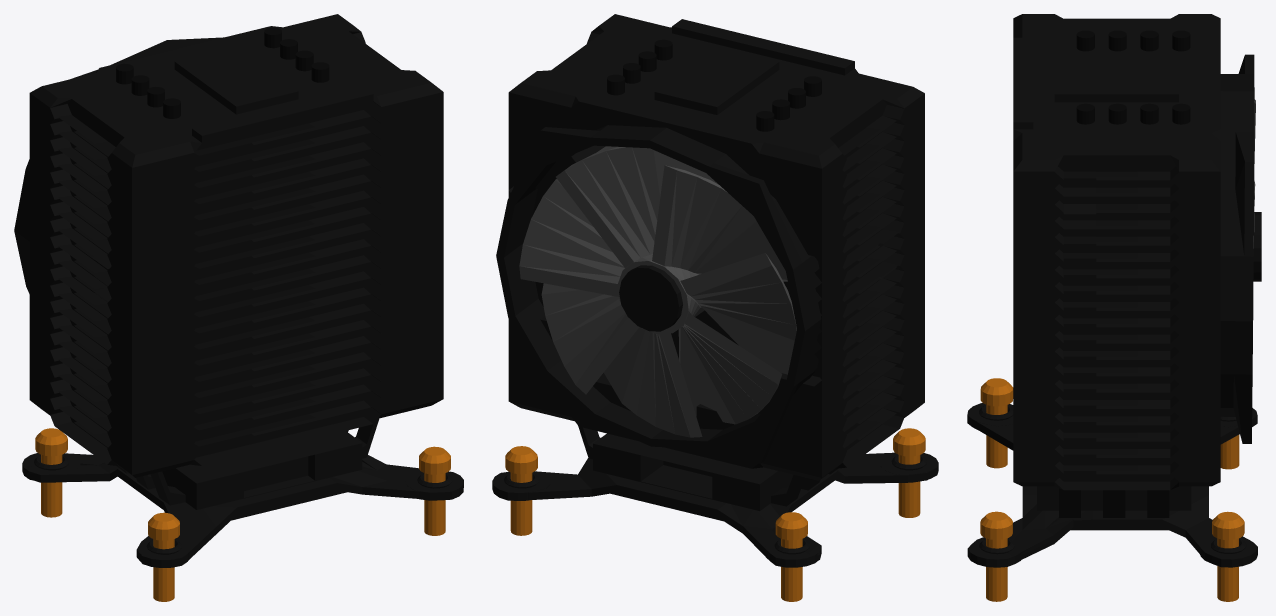
Rendered from CPU Kühler.fbx.
3 views of the same model, side by side, from view 1: azimuth 30°, elevation 25°; view 2: azimuth 150°, elevation 25°; view 3: azimuth 270°, elevation 25° (orthographic).
Parts seen in each view (by area): view 1: CPU_Kühler; view 2: CPU_Kühler; view 3: CPU_Kühler.
Boxes of the visible parts, box(x1,y1,x2,y2) form: CPU_Kühler: box(14, 14, 463, 601); CPU_Kühler: box(492, 14, 938, 601); CPU_Kühler: box(967, 14, 1261, 601).
Size of the model in its own units: 8.82 by 11.83 by 6.93.
